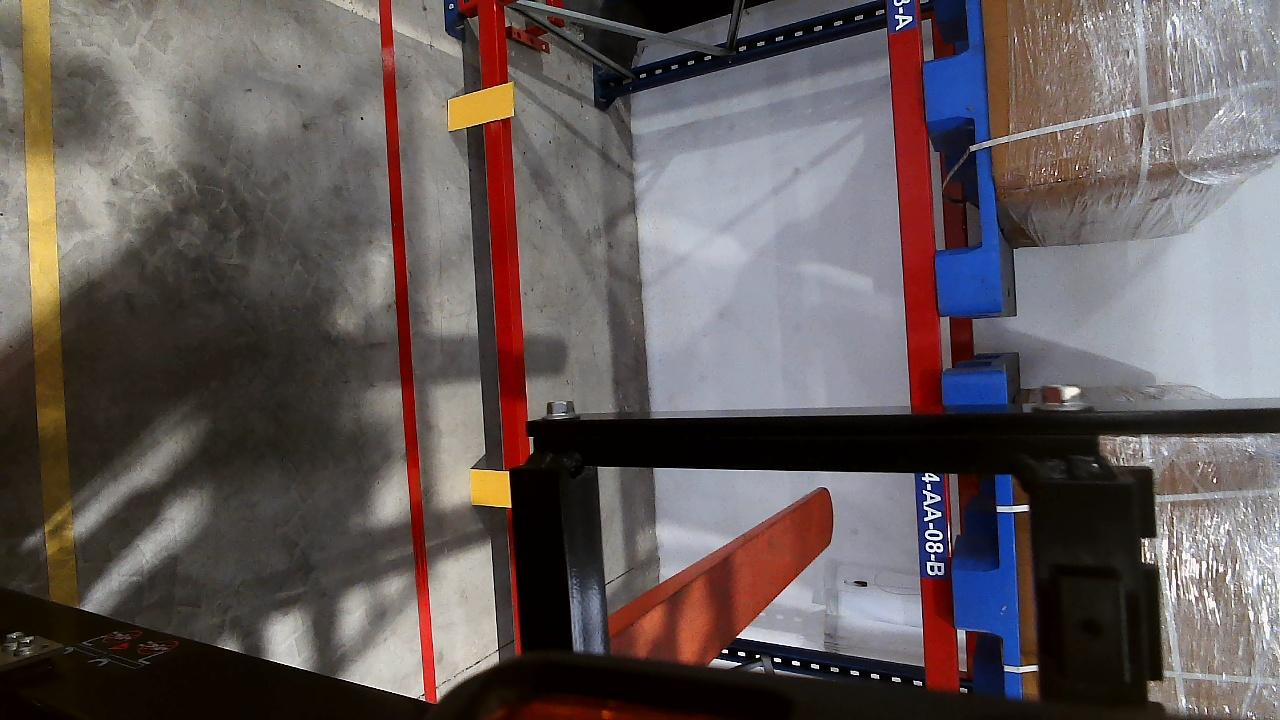h_rack: (881, 0, 947, 681), (475, 18, 528, 467)
orange_strip: (447, 83, 514, 130), (467, 469, 512, 507)
red_line: (385, 0, 434, 705)
small_pallet: (917, 0, 1007, 309)
yellow_line: (17, 0, 74, 602)
